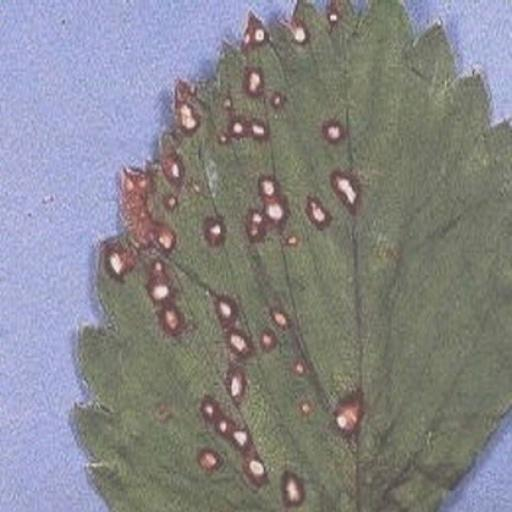Leaf Spot: (69, 0, 511, 511)
